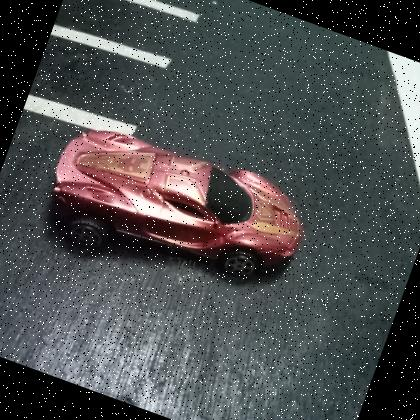Car: (50, 131, 305, 281)
